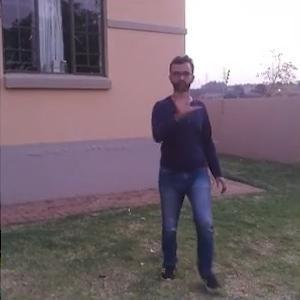follow_hand: (172, 83, 200, 118)
